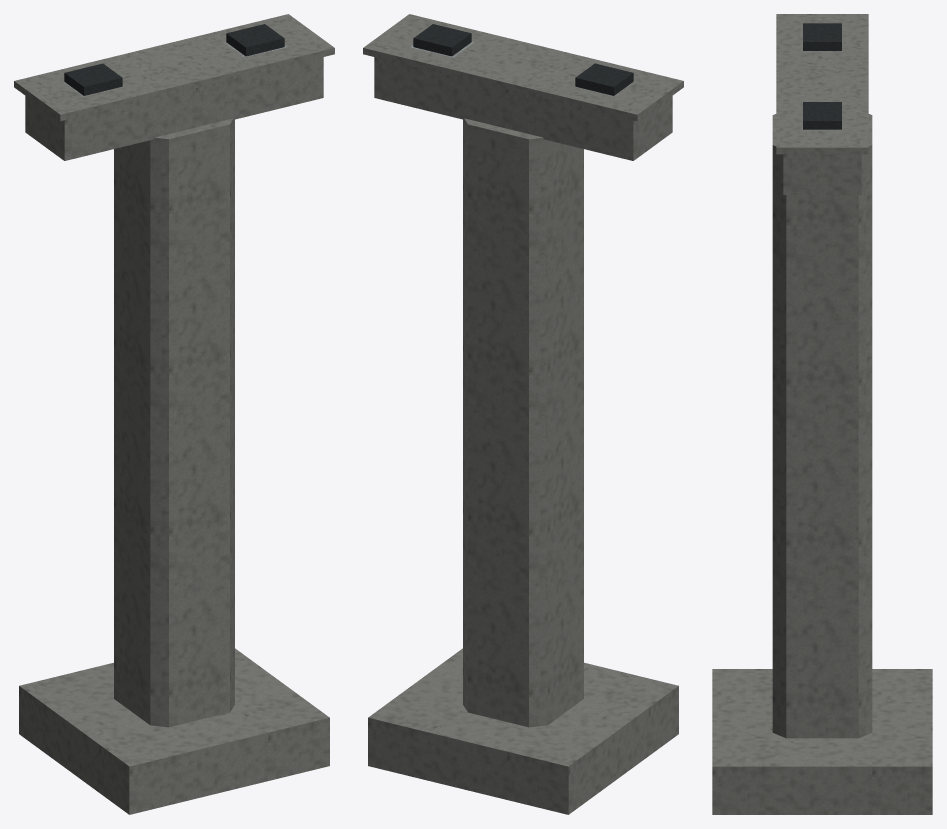
File: PZ_Caldera_Pier_09m.glb
3 views of the same model, side by side, from view 1: azimuth 30°, elevation 25°; view 2: azimuth 150°, elevation 25°; view 3: azimuth 270°, elevation 25° (orthographic).
Visible parts, largest first — view 1: PZ_Caldera_Pier_09m_OCTAGONAL_REINFORCED_COLUMN, PZ_Caldera_Pier_09m_SPREAD_FOOTING, PZ_Caldera_Pier_09m_TOP_PLATE, PZ_Caldera_Pier_09m_REINFORCED_HEADSTOCK, PZ_Caldera_Pier_09m_ELASTOMERIC_BEARING_L, PZ_Caldera_Pier_09m_ELASTOMERIC_BEARING_R; view 2: PZ_Caldera_Pier_09m_OCTAGONAL_REINFORCED_COLUMN, PZ_Caldera_Pier_09m_SPREAD_FOOTING, PZ_Caldera_Pier_09m_TOP_PLATE, PZ_Caldera_Pier_09m_REINFORCED_HEADSTOCK, PZ_Caldera_Pier_09m_ELASTOMERIC_BEARING_L, PZ_Caldera_Pier_09m_ELASTOMERIC_BEARING_R; view 3: PZ_Caldera_Pier_09m_OCTAGONAL_REINFORCED_COLUMN, PZ_Caldera_Pier_09m_SPREAD_FOOTING, PZ_Caldera_Pier_09m_TOP_PLATE, PZ_Caldera_Pier_09m_REINFORCED_HEADSTOCK, PZ_Caldera_Pier_09m_ELASTOMERIC_BEARING_L, PZ_Caldera_Pier_09m_ELASTOMERIC_BEARING_R.
Part boxes in pixels (<box>): PZ_Caldera_Pier_09m_OCTAGONAL_REINFORCED_COLUMN: <box>114,118,234,727</box>; PZ_Caldera_Pier_09m_SPREAD_FOOTING: <box>19,648,329,814</box>; PZ_Caldera_Pier_09m_TOP_PLATE: <box>14,14,334,121</box>; PZ_Caldera_Pier_09m_REINFORCED_HEADSTOCK: <box>25,57,323,160</box>; PZ_Caldera_Pier_09m_ELASTOMERIC_BEARING_L: <box>64,63,122,95</box>; PZ_Caldera_Pier_09m_ELASTOMERIC_BEARING_R: <box>226,24,284,56</box>; PZ_Caldera_Pier_09m_OCTAGONAL_REINFORCED_COLUMN: <box>463,118,583,727</box>; PZ_Caldera_Pier_09m_SPREAD_FOOTING: <box>368,648,678,814</box>; PZ_Caldera_Pier_09m_TOP_PLATE: <box>363,14,683,121</box>; PZ_Caldera_Pier_09m_REINFORCED_HEADSTOCK: <box>374,57,672,160</box>; PZ_Caldera_Pier_09m_ELASTOMERIC_BEARING_L: <box>575,63,633,95</box>; PZ_Caldera_Pier_09m_ELASTOMERIC_BEARING_R: <box>413,24,471,56</box>; PZ_Caldera_Pier_09m_OCTAGONAL_REINFORCED_COLUMN: <box>772,114,872,738</box>; PZ_Caldera_Pier_09m_SPREAD_FOOTING: <box>712,669,932,814</box>; PZ_Caldera_Pier_09m_TOP_PLATE: <box>776,14,868,154</box>; PZ_Caldera_Pier_09m_REINFORCED_HEADSTOCK: <box>783,154,861,194</box>; PZ_Caldera_Pier_09m_ELASTOMERIC_BEARING_L: <box>803,23,841,50</box>; PZ_Caldera_Pier_09m_ELASTOMERIC_BEARING_R: <box>803,102,841,129</box>.
Size of the model in its own units: 3.56 by 8.61 by 2.48.
3 materials, 3 textured.
